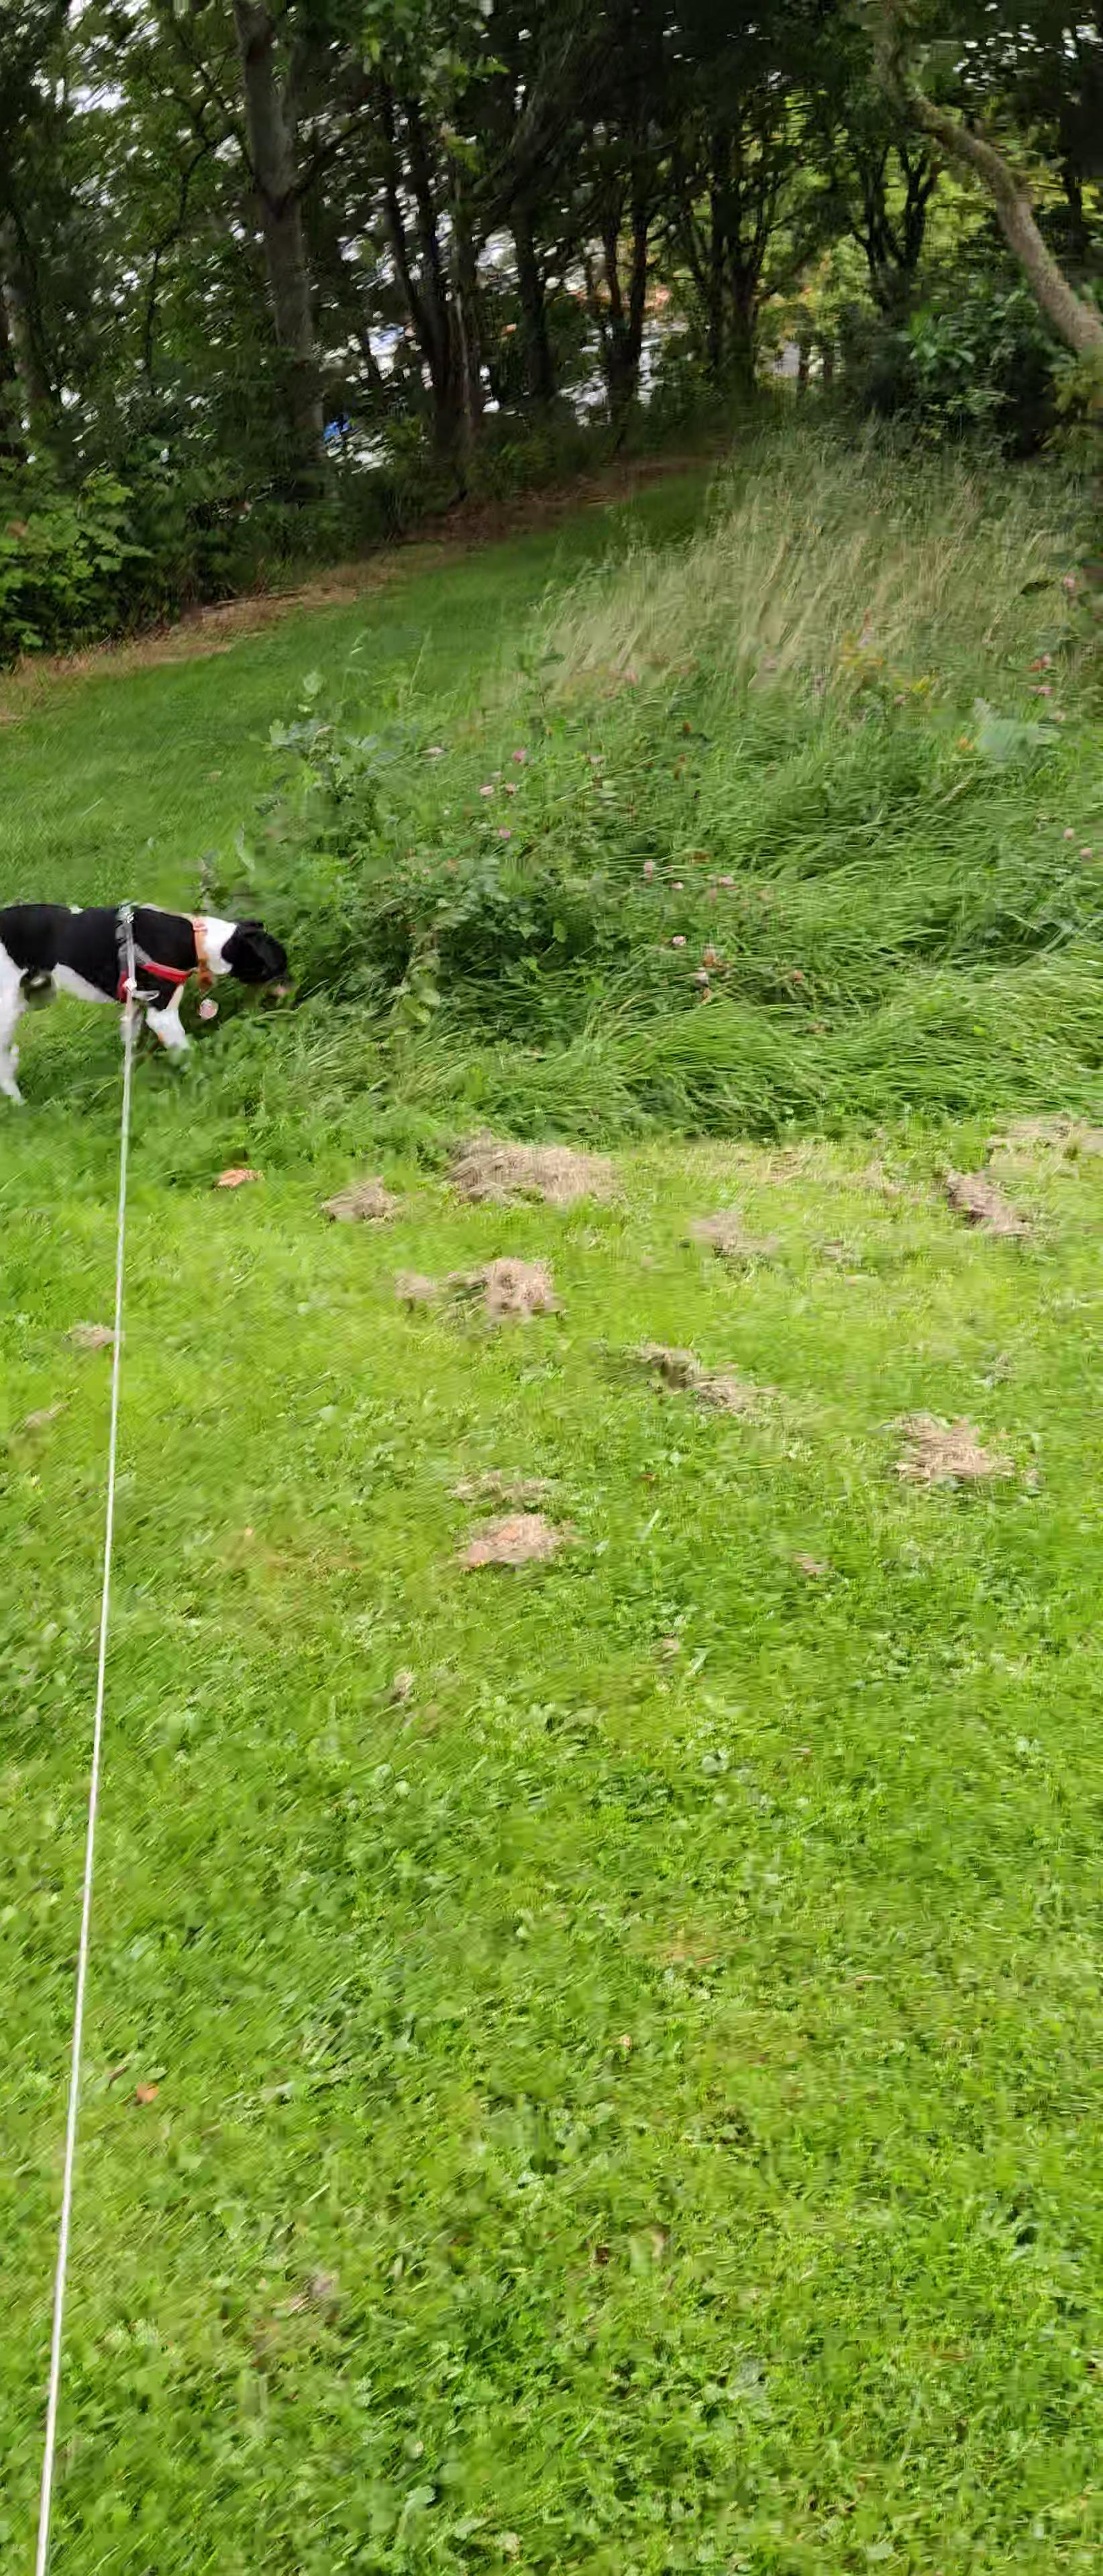Dog: (0, 890, 306, 1114)
